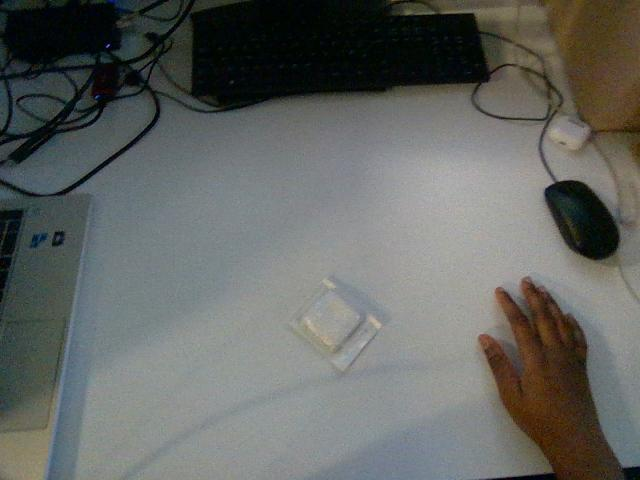gauze: (291, 279, 381, 371)
